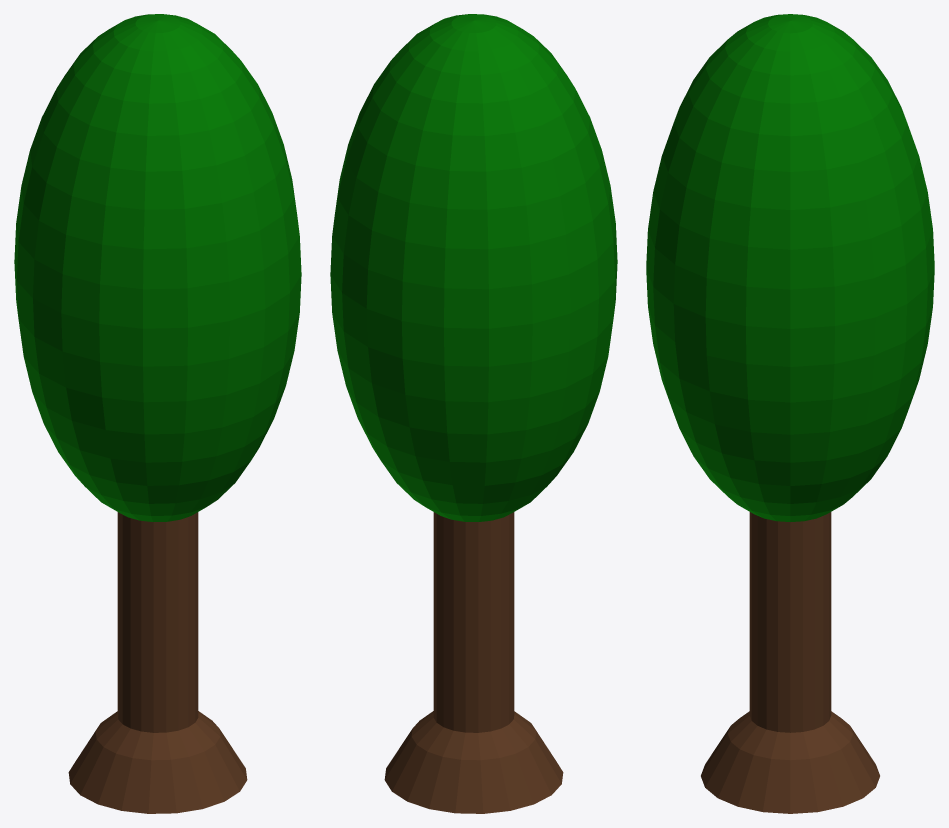
File: palo.fbx
3 views of the same model, side by side, from view 1: azimuth 30°, elevation 25°; view 2: azimuth 150°, elevation 25°; view 3: azimuth 270°, elevation 25° (orthographic).
Parts seen in each view (by area): view 1: Palo1; view 2: Palo1; view 3: Palo1.
Boxes of the visible parts, box(x1,y1,x2,y2) form: Palo1: box(14, 14, 301, 813); Palo1: box(330, 14, 617, 813); Palo1: box(646, 14, 934, 813).
Size of the model in its own units: 384 by 1108 by 384.
